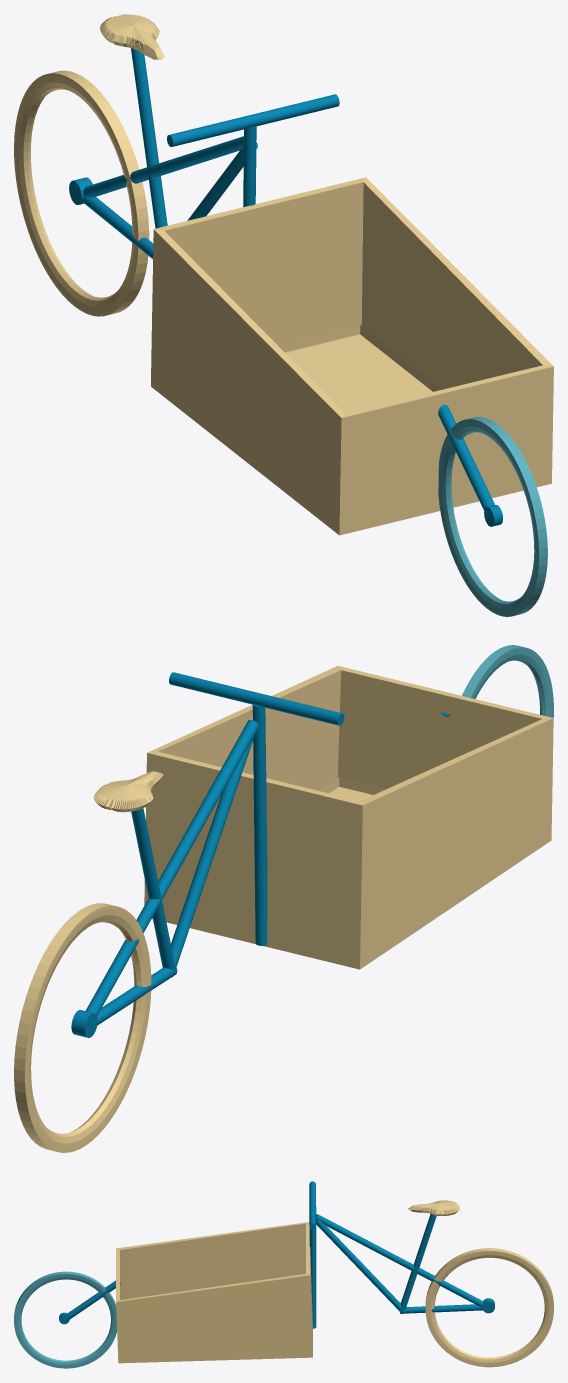
Rendered from BikeChild.fbx.
The picture shows the model from 3 angles, top to bottom: view 1: azimuth 30°, elevation 25°; view 2: azimuth 150°, elevation 25°; view 3: azimuth 270°, elevation 25°; orthographic projection. The views are drawn at different scales.
Visible parts, largest first — view 1: Cube; view 2: Cube; view 3: Cube.
Boxes of the visible parts, left/top/right/bottom form: Cube: left=14, top=14, right=553, bottom=616; Cube: left=14, top=645, right=553, bottom=1152; Cube: left=14, top=1181, right=553, bottom=1368.
Bounding box in the file's own units: 58.74 × 84.32 × 250.
